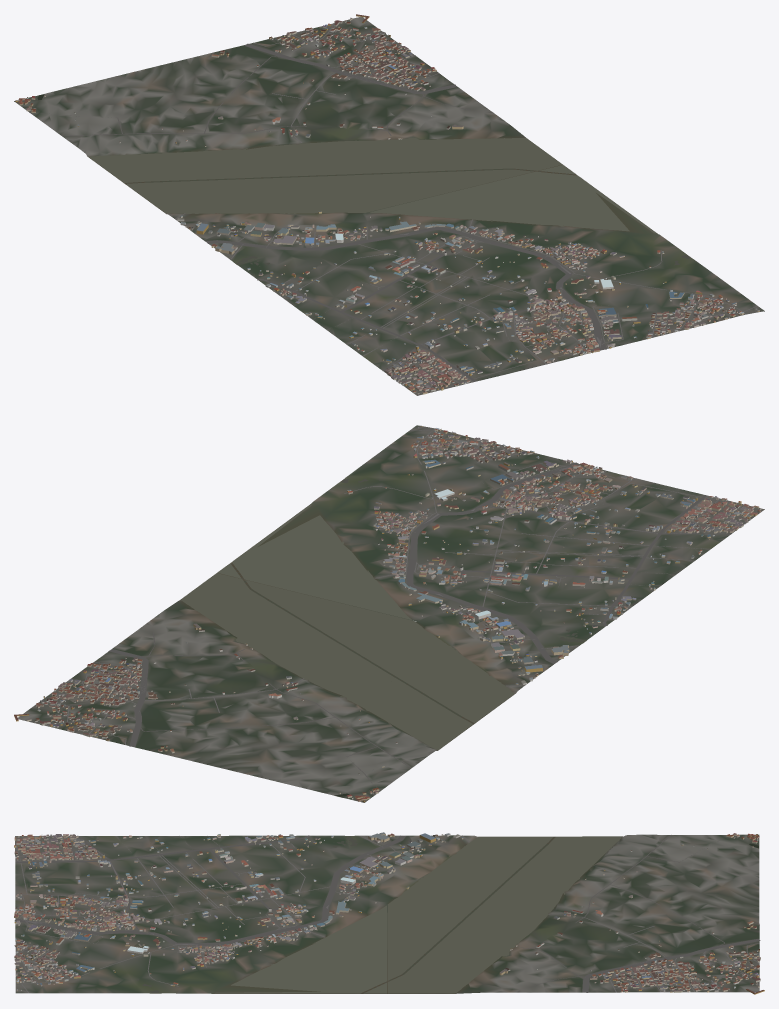
3 renders of one model, top to bottom at view 1: azimuth 30°, elevation 25°; view 2: azimuth 150°, elevation 25°; view 3: azimuth 270°, elevation 25°, orthographic. The views are drawn at different scales.
Parts seen in each view (by area): view 1: ground, water, buildings, roads; view 2: ground, water, buildings, roads; view 3: ground, water, buildings, roads.
Part boxes in pixels (x1=…): ground: x1=14, y1=17, x2=764, y2=395; water: x1=37, y1=94, x2=690, y2=358; buildings: x1=15, y1=14, x2=759, y2=394; roads: x1=29, y1=23, x2=757, y2=390; ground: x1=18, y1=425, x2=764, y2=802; water: x1=180, y1=479, x2=660, y2=796; buildings: x1=14, y1=425, x2=761, y2=802; roads: x1=44, y1=429, x2=754, y2=792; ground: x1=15, y1=834, x2=759, y2=993; water: x1=137, y1=836, x2=758, y2=993; buildings: x1=14, y1=832, x2=764, y2=994; roads: x1=14, y1=835, x2=760, y2=993.
Bounding box in the file's own units: 1428 × 22.8 × 2830.
